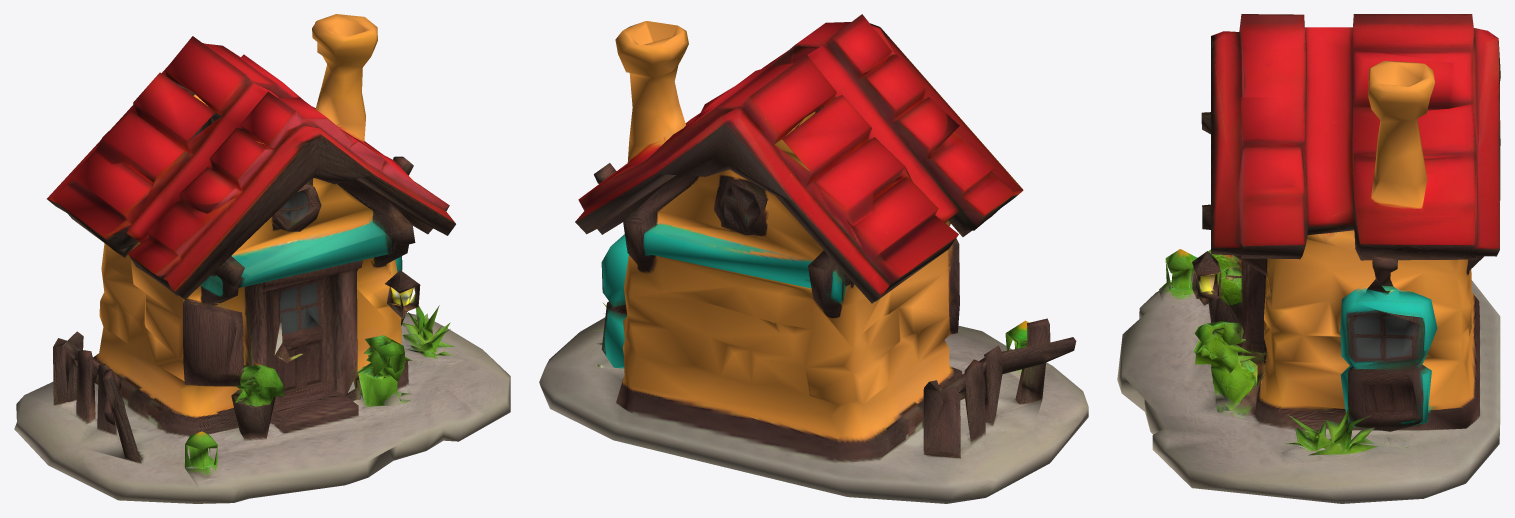
Rendered from village-house.glb.
The picture shows the model from 3 angles, left to right: view 1: azimuth 30°, elevation 25°; view 2: azimuth 150°, elevation 25°; view 3: azimuth 270°, elevation 25°; orthographic projection. The views are drawn at different scales.
Visible parts, largest first — view 1: Mesh_0; view 2: Mesh_0; view 3: Mesh_0.
Part boxes in pixels (bbox=[...]): Mesh_0: bbox=[14, 14, 510, 503]; Mesh_0: bbox=[539, 14, 1088, 503]; Mesh_0: bbox=[1117, 14, 1500, 503].
Size of the model in its own units: 4.01 by 3 by 2.77.
Materials: 1 (1 with a texture image).
